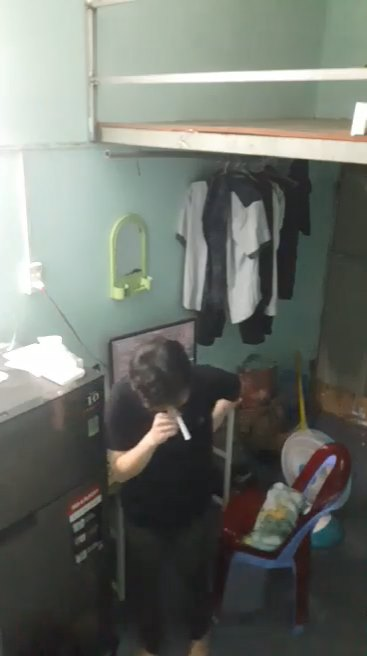cigarette: (171, 401, 196, 445)
person: (92, 324, 252, 656)
